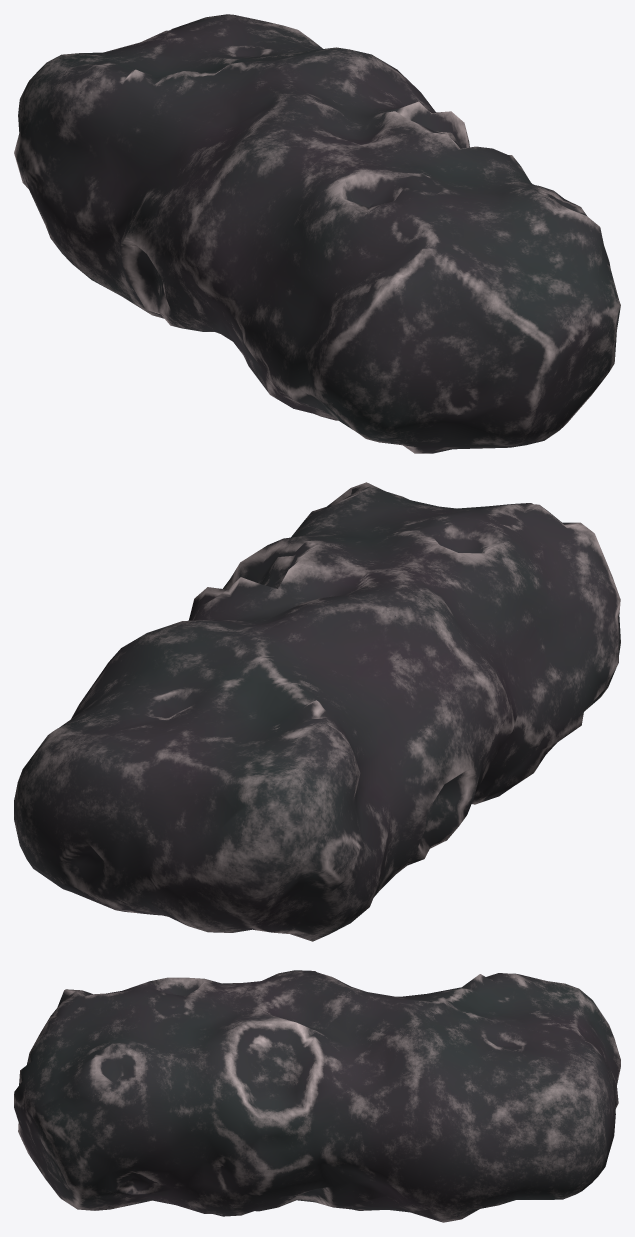
The picture shows the model from 3 angles, top to bottom: view 1: azimuth 30°, elevation 25°; view 2: azimuth 150°, elevation 25°; view 3: azimuth 270°, elevation 25°; orthographic projection. The views are drawn at different scales.
Parts seen in each view (by area): view 1: Cube.002_low_poly; view 2: Cube.002_low_poly; view 3: Cube.002_low_poly.
Part boxes in pixels (x1,y1,x2,y2): Cube.002_low_poly: [14, 14, 620, 453]; Cube.002_low_poly: [14, 482, 620, 941]; Cube.002_low_poly: [14, 970, 620, 1222].
Bounding box in the file's own units: 5.25 × 3.79 × 10.58.
1 material, 1 textured.
